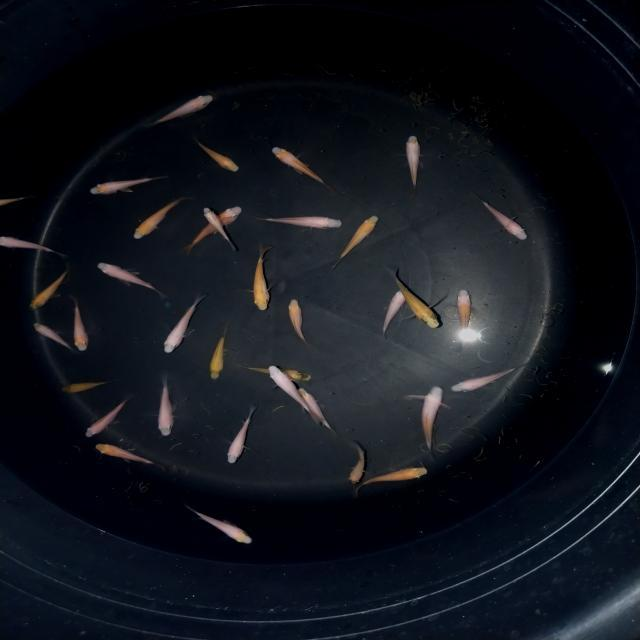nila: (388, 264, 442, 338), (180, 200, 246, 256), (269, 141, 340, 193), (133, 90, 220, 132), (184, 501, 258, 548), (126, 194, 192, 242), (472, 192, 530, 245), (160, 292, 207, 357), (331, 210, 384, 266), (445, 362, 529, 397), (350, 463, 433, 497), (92, 260, 166, 298), (414, 382, 448, 462), (264, 363, 312, 419), (85, 170, 173, 199), (296, 386, 346, 437), (241, 244, 274, 316), (80, 396, 136, 438), (250, 212, 348, 236), (224, 402, 260, 467), (189, 132, 243, 174), (89, 443, 167, 472), (27, 266, 72, 313), (238, 360, 320, 384), (200, 204, 238, 252), (0, 232, 67, 258), (66, 296, 96, 354), (400, 133, 428, 194), (152, 377, 178, 442), (204, 324, 233, 382), (377, 284, 407, 340), (284, 296, 315, 346), (344, 437, 373, 490), (27, 323, 74, 355), (450, 286, 472, 344), (0, 189, 44, 215), (56, 378, 108, 397)
